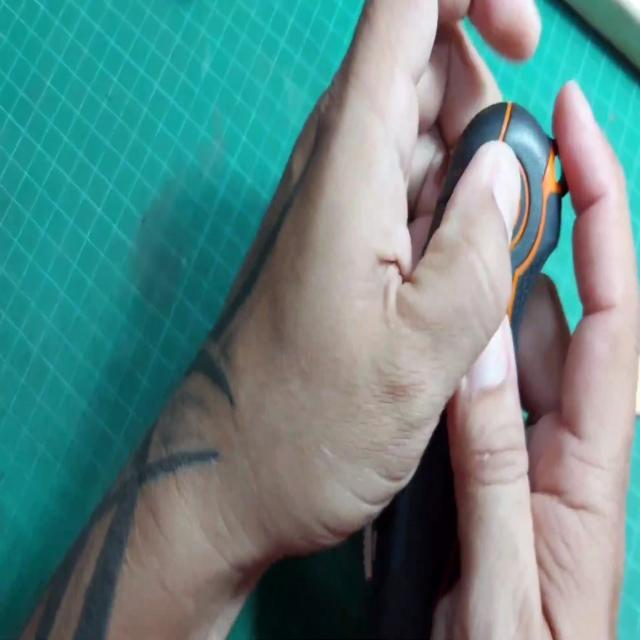cutter: (322, 0, 629, 640)
